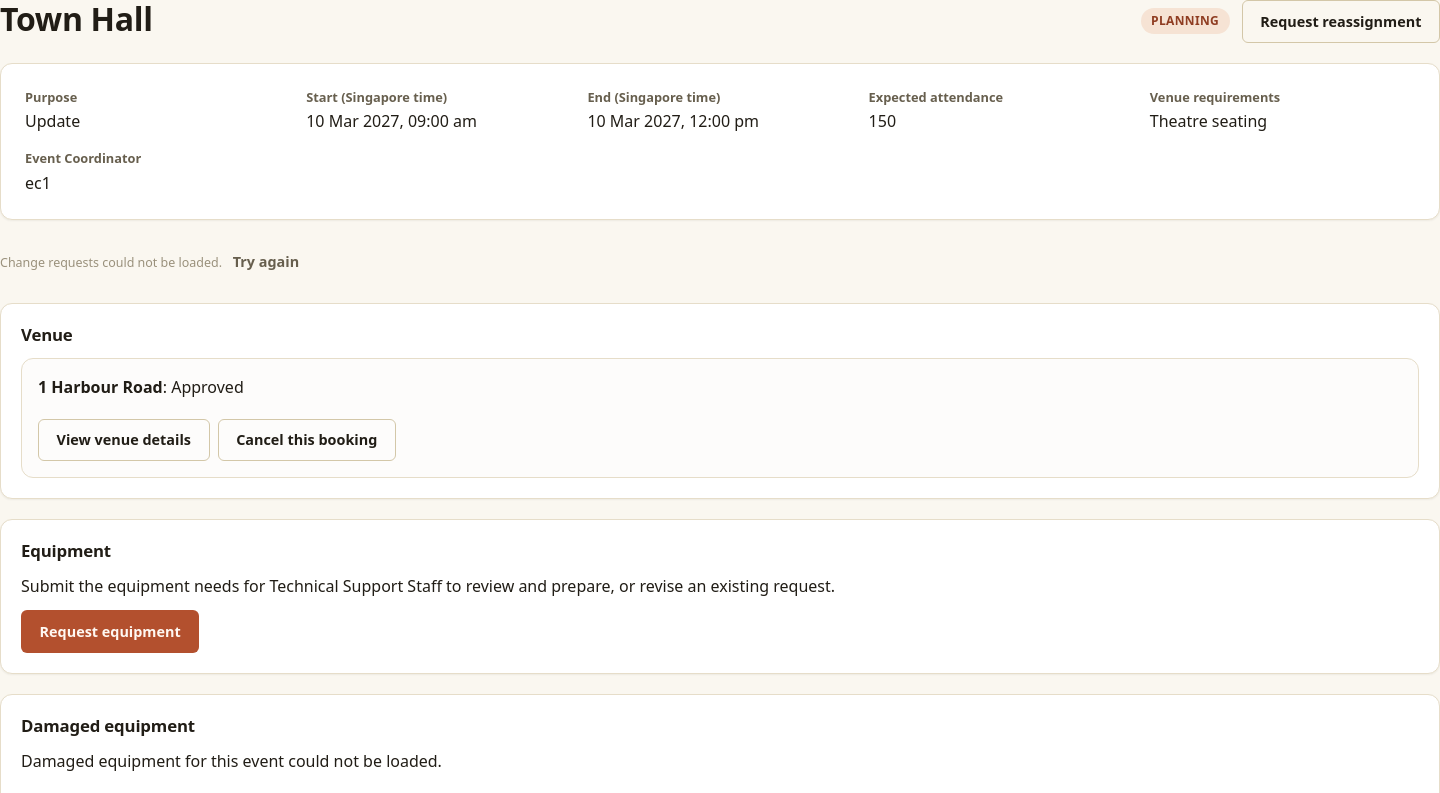
Test: Cancelling a pending venue booking request (EC03) › cancels a approved booking with an optional reason and then offers a new request
The width and height of the screenshot is (1440, 793).
Step 1. Click the button "Cancel this booking" → (307, 440), box [218,419,396,461]
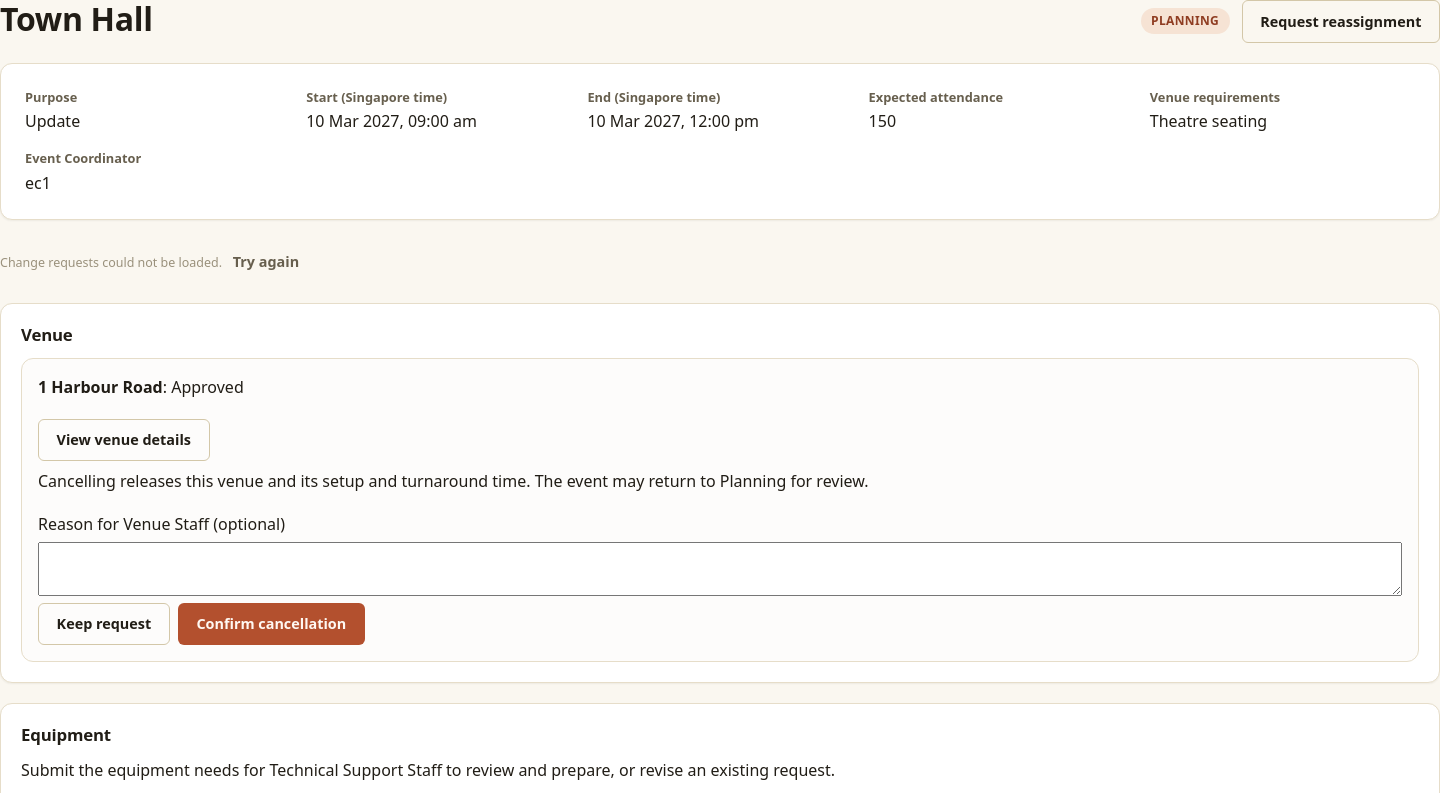
Step 2. Type "Wrong venue" into the text box labelled "Reason for Venue Staff (optional)" → (720, 569), box [38,542,1402,596]
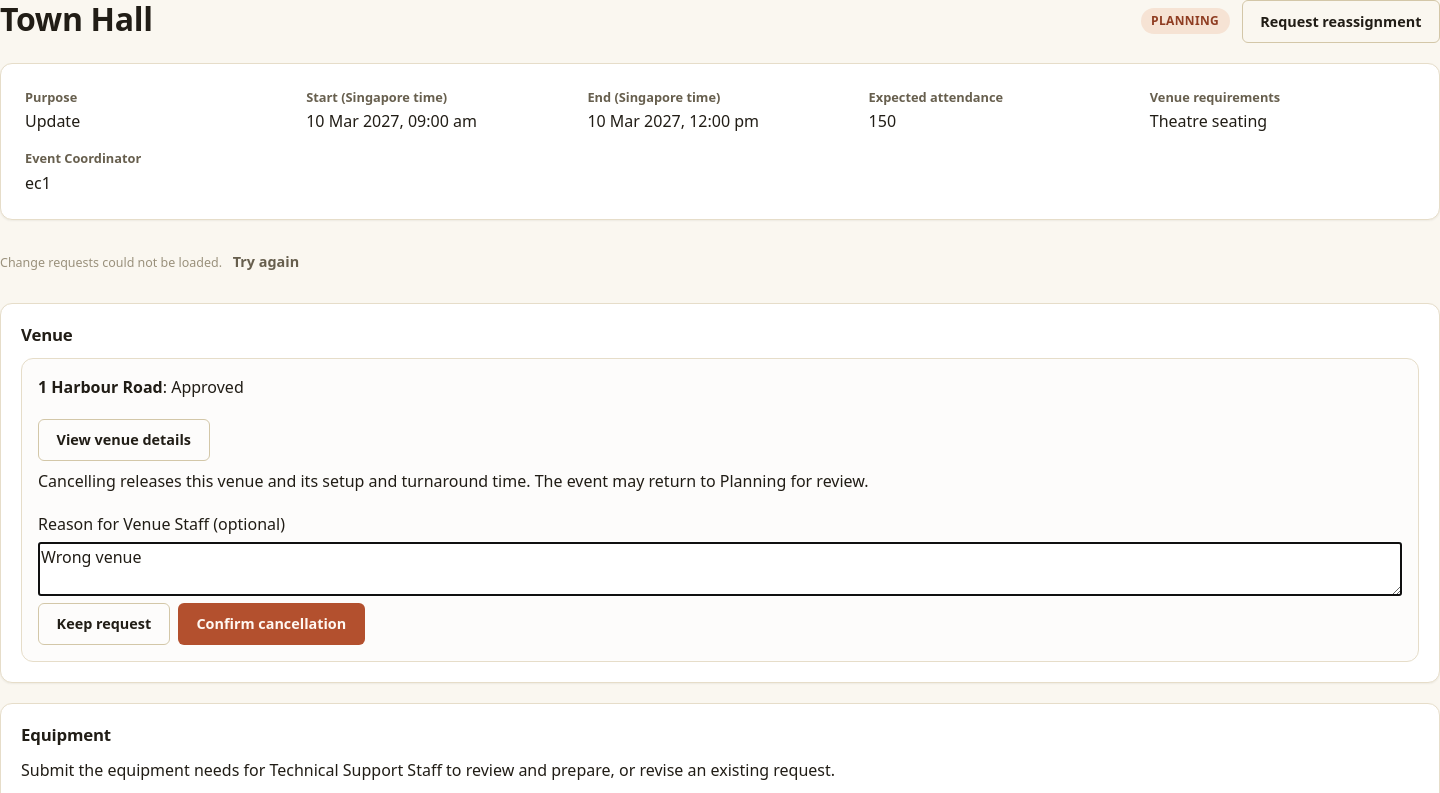
Step 3. Click the button "Confirm cancellation" → (271, 624), box [178,602,365,645]
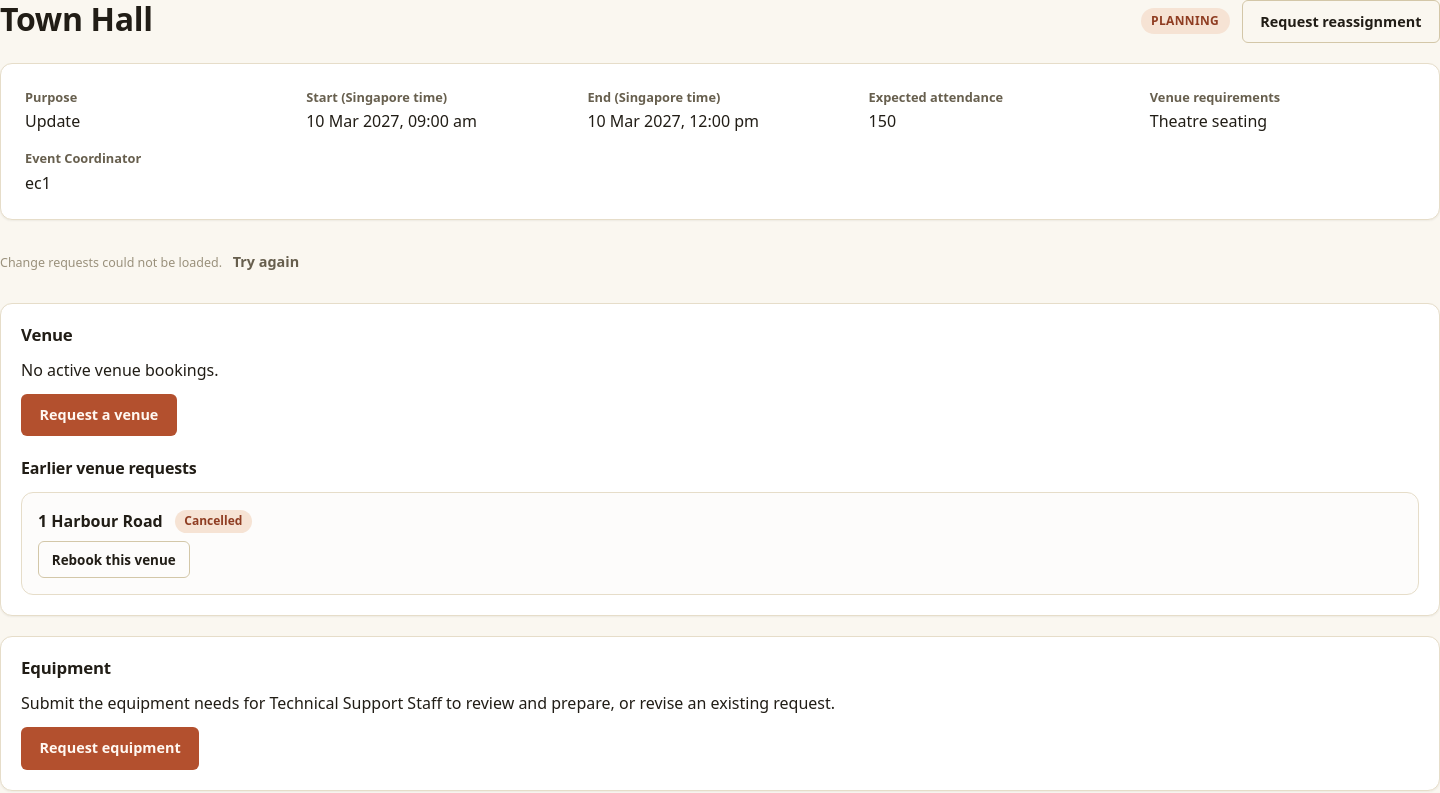
Check: the link "Request a venue" is shown, box [21,394,177,436]
Check: the heading "Earlier venue requests" is shown, box [21,457,197,479]
Check: the text "Cancelled" is shown, box [175,510,252,533]
